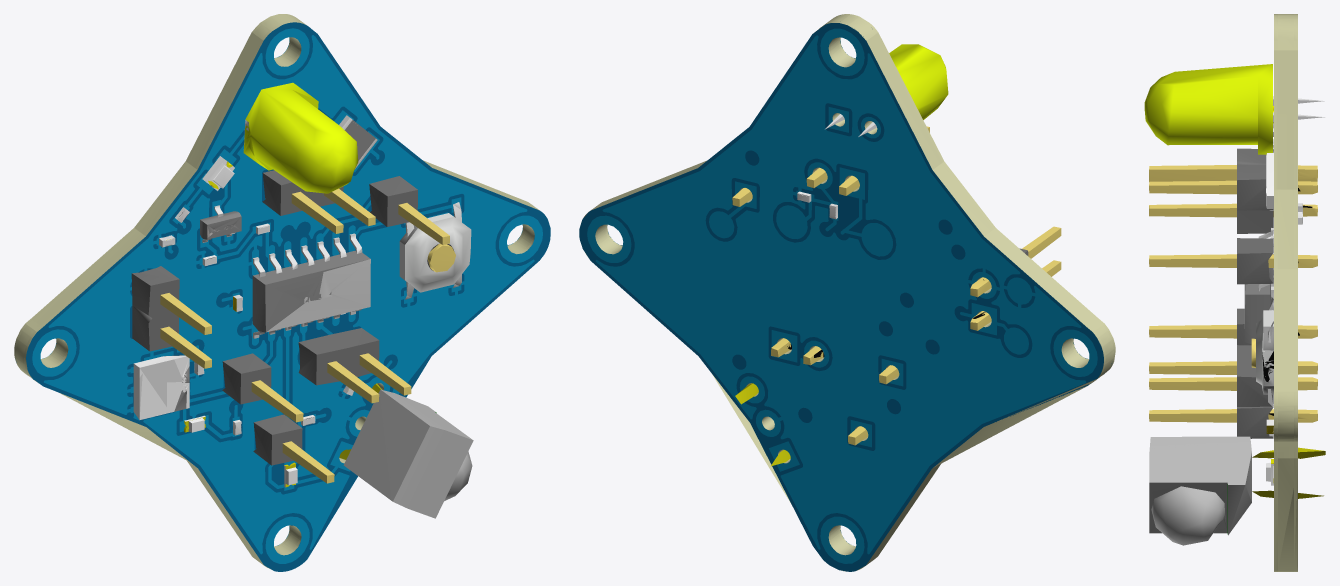
The model's file is v4_mini.glb.
The picture shows the model from 3 angles, left to right: view 1: azimuth 30°, elevation 25°; view 2: azimuth 150°, elevation 25°; view 3: azimuth 270°, elevation 25°; orthographic projection.
Parts seen in each view (by area): view 1: v4; view 2: v4; view 3: v4.
Boxes of the visible parts, box(x1,y1,x2,y2) form: v4: box(14, 14, 550, 571); v4: box(579, 14, 1115, 571); v4: box(1144, 14, 1325, 571).
Bounding box in the file's own units: 41.38 × 41.27 × 12.29.
